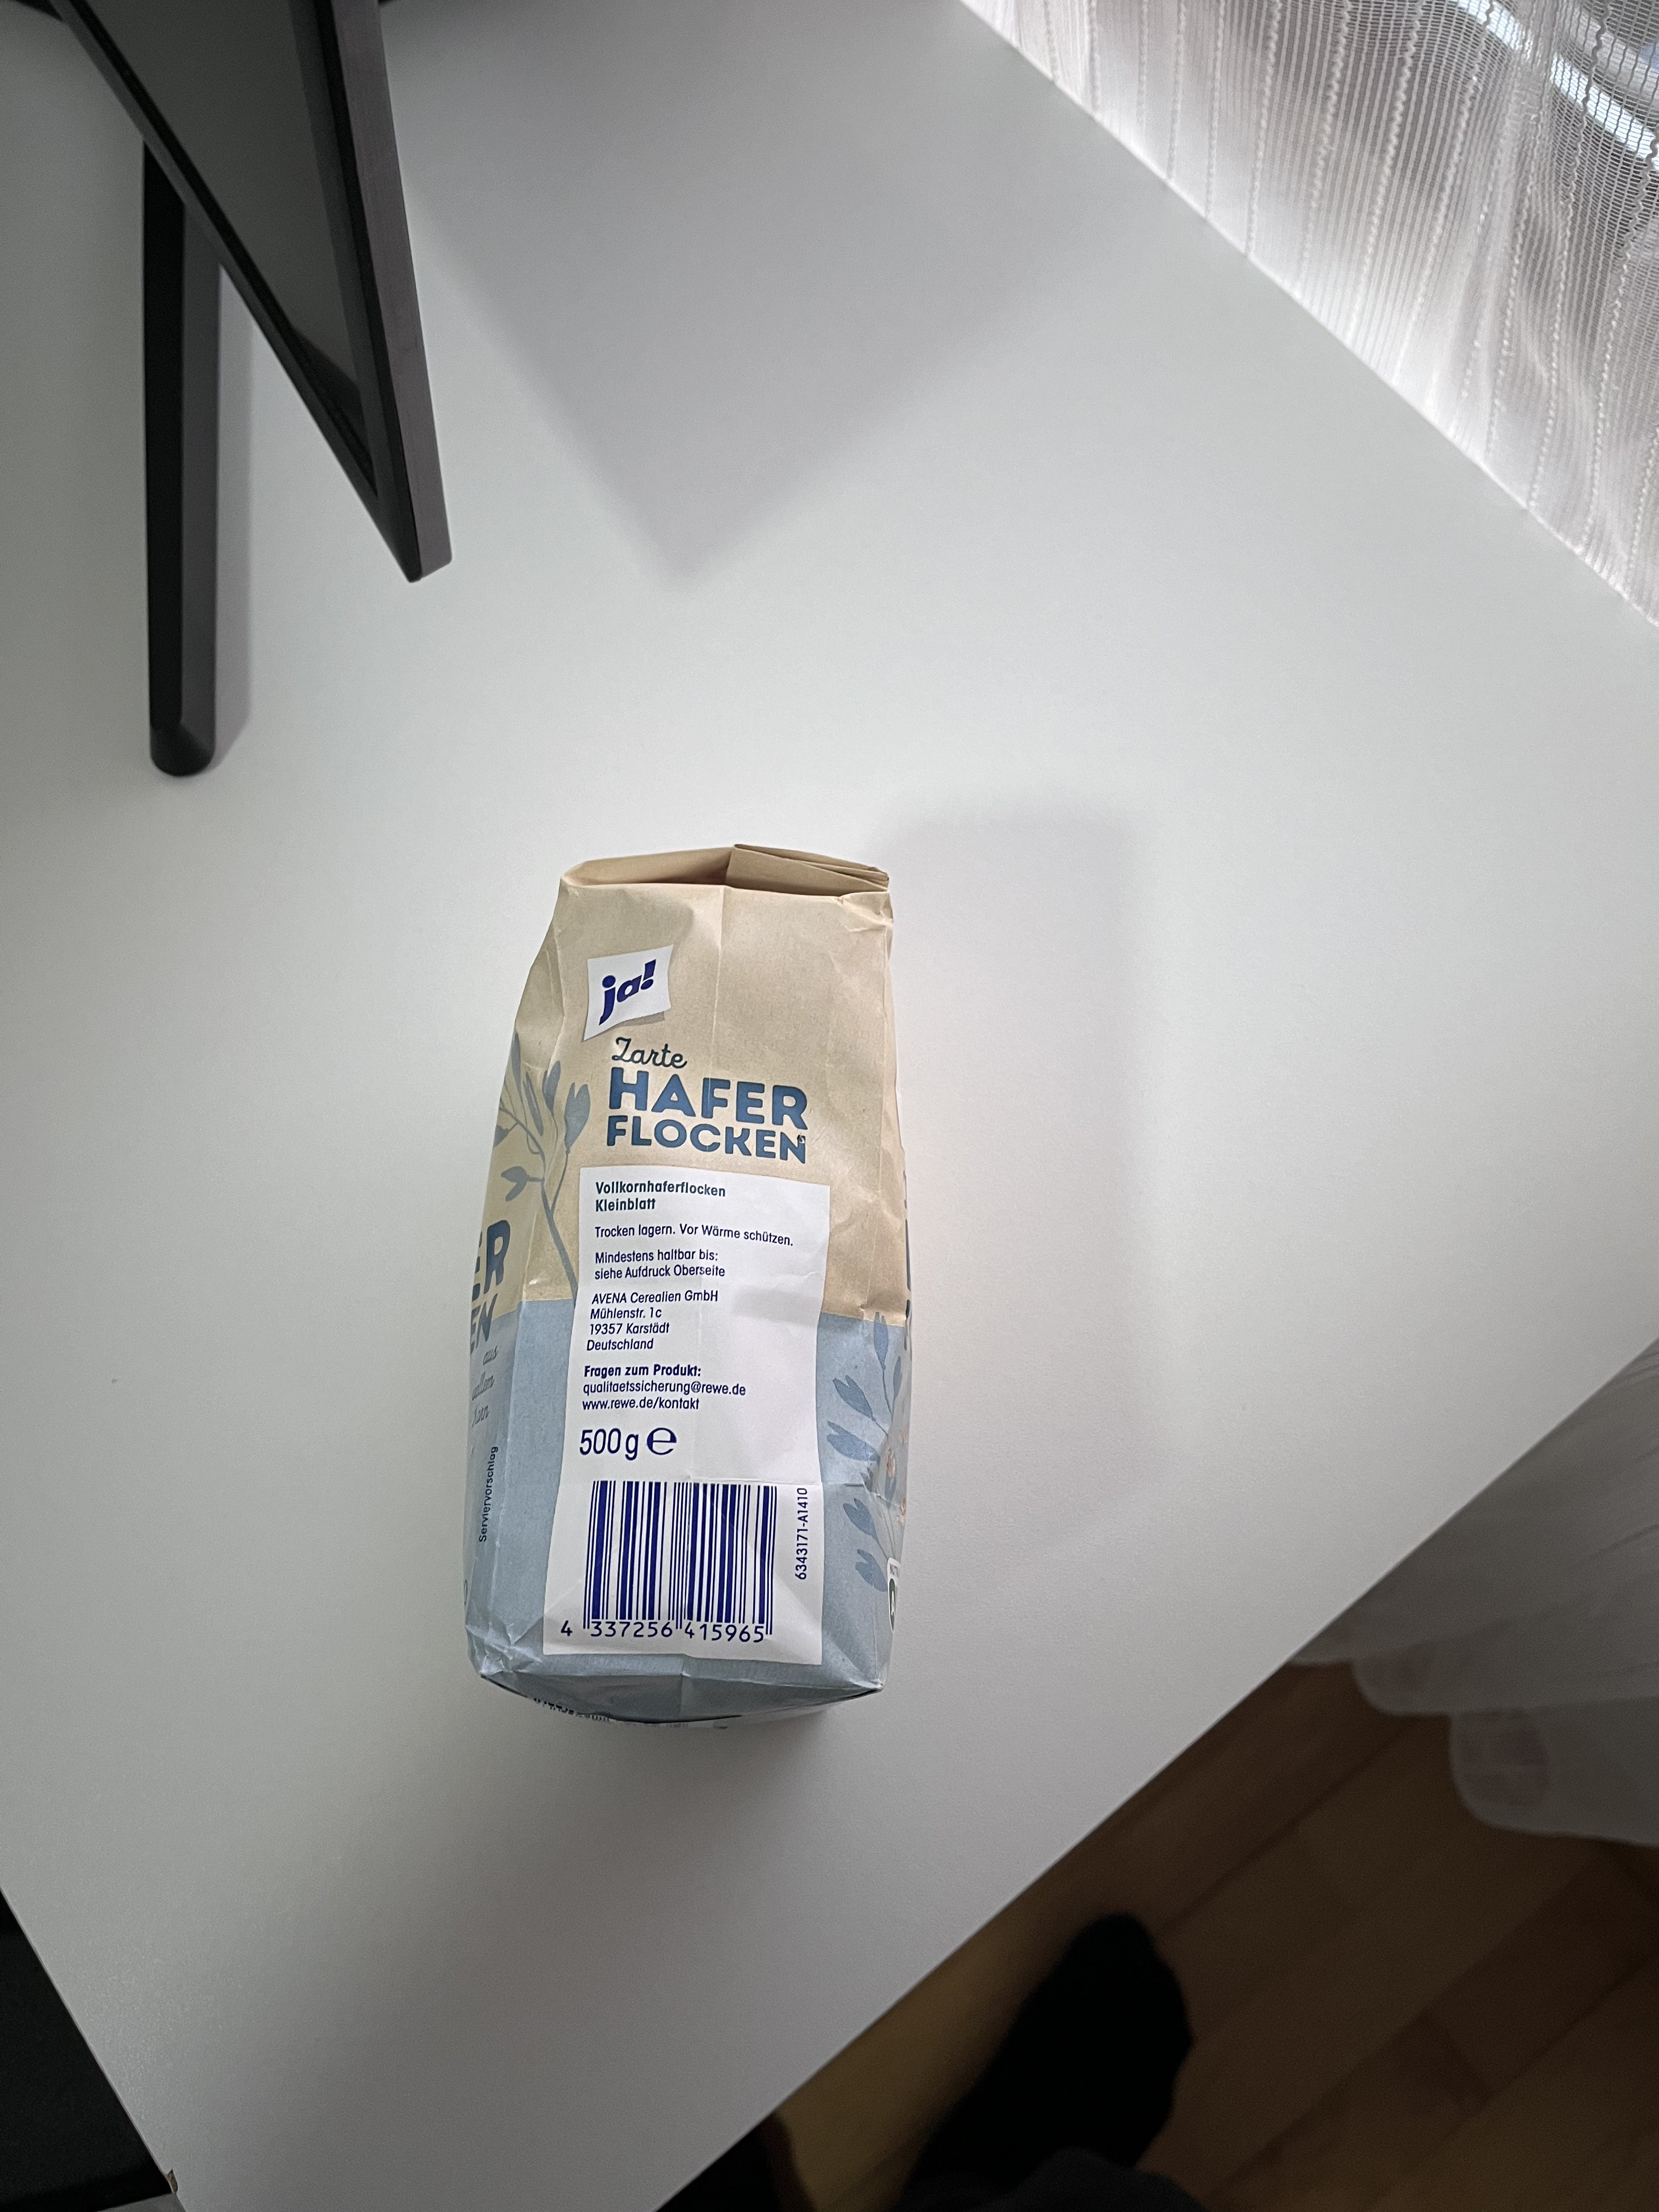haferflocken_ja: (469, 845, 915, 1728)
